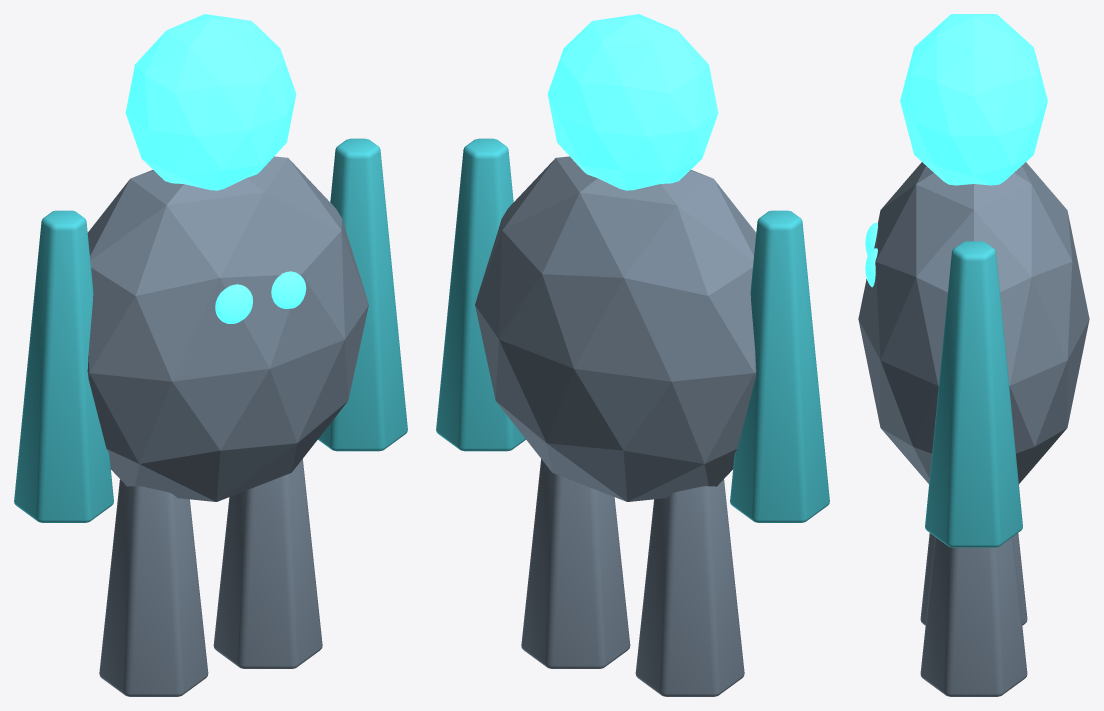
The model's file is elemental_v7.glb.
3 views of the same model, side by side, from view 1: azimuth 30°, elevation 25°; view 2: azimuth 150°, elevation 25°; view 3: azimuth 270°, elevation 25° (orthographic).
Parts seen in each view (by area): view 1: ICE_TORSO_PRIMARY, ICE_HEAD_EMISSIVE, ICE_ARM_ACCENT, ICE_LEG_PRIMARY, ICE_LEG_PRIMARY.001, ICE_ARM_ACCENT.001, EYE_EMISSIVE, EYE_EMISSIVE.001; view 2: ICE_TORSO_PRIMARY, ICE_HEAD_EMISSIVE, ICE_ARM_ACCENT, ICE_LEG_PRIMARY, ICE_LEG_PRIMARY.001, ICE_ARM_ACCENT.001; view 3: ICE_TORSO_PRIMARY, ICE_ARM_ACCENT.001, ICE_HEAD_EMISSIVE, ICE_LEG_PRIMARY.001, ICE_LEG_PRIMARY.
Part boxes in pixels (x1=…): ICE_TORSO_PRIMARY: x1=87, y1=156, x2=368, y2=501; ICE_HEAD_EMISSIVE: x1=125, y1=14, x2=296, y2=190; ICE_ARM_ACCENT: x1=14, y1=210, x2=113, y2=522; ICE_LEG_PRIMARY: x1=99, y1=479, x2=208, y2=696; ICE_LEG_PRIMARY.001: x1=213, y1=459, x2=322, y2=668; ICE_ARM_ACCENT.001: x1=318, y1=138, x2=407, y2=451; EYE_EMISSIVE: x1=215, y1=284, x2=252, y2=323; EYE_EMISSIVE.001: x1=271, y1=271, x2=306, y2=308; ICE_TORSO_PRIMARY: x1=475, y1=156, x2=756, y2=501; ICE_HEAD_EMISSIVE: x1=547, y1=14, x2=718, y2=190; ICE_ARM_ACCENT: x1=730, y1=210, x2=829, y2=522; ICE_LEG_PRIMARY: x1=635, y1=479, x2=744, y2=696; ICE_LEG_PRIMARY.001: x1=521, y1=459, x2=630, y2=668; ICE_ARM_ACCENT.001: x1=436, y1=138, x2=525, y2=451; ICE_TORSO_PRIMARY: x1=858, y1=162, x2=1089, y2=483; ICE_ARM_ACCENT.001: x1=925, y1=241, x2=1022, y2=547; ICE_HEAD_EMISSIVE: x1=900, y1=14, x2=1047, y2=185; ICE_LEG_PRIMARY.001: x1=920, y1=537, x2=1027, y2=696; ICE_LEG_PRIMARY: x1=920, y1=533, x2=1027, y2=625.
Size of the model in its own units: 1.82 by 3.03 by 1.
